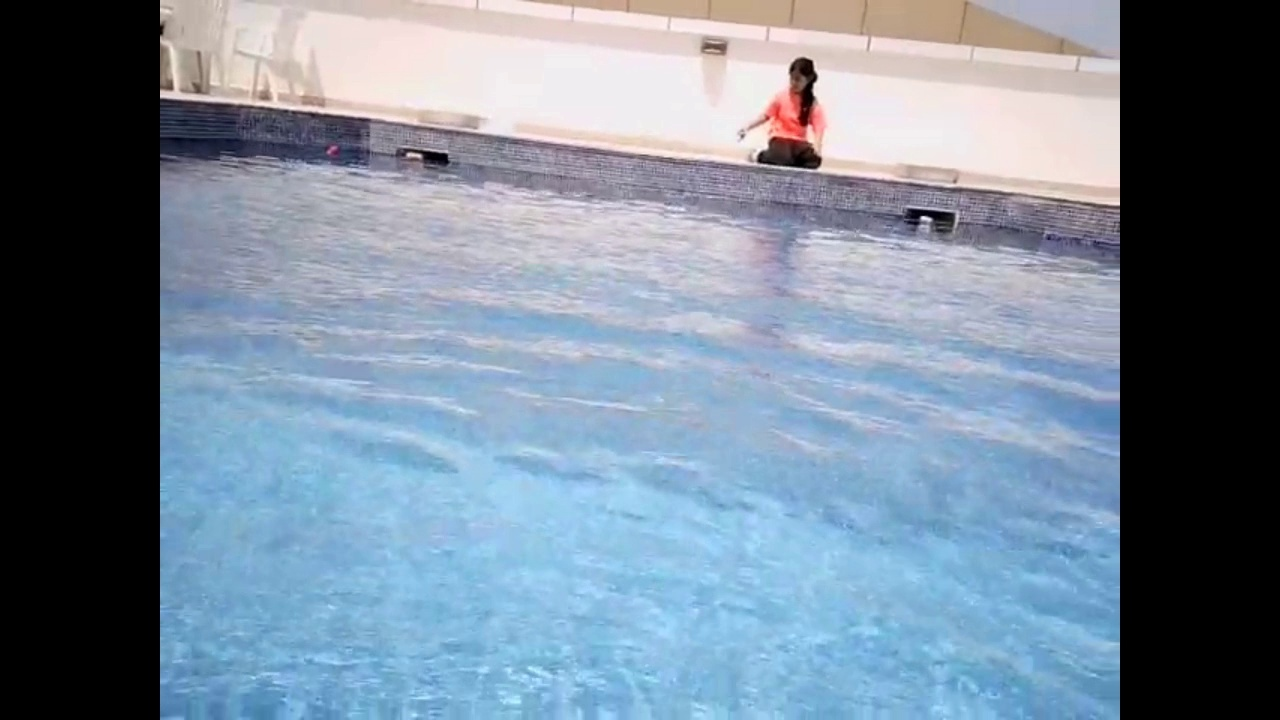debris: (401, 148, 426, 163), (914, 211, 934, 227), (322, 143, 342, 158)
